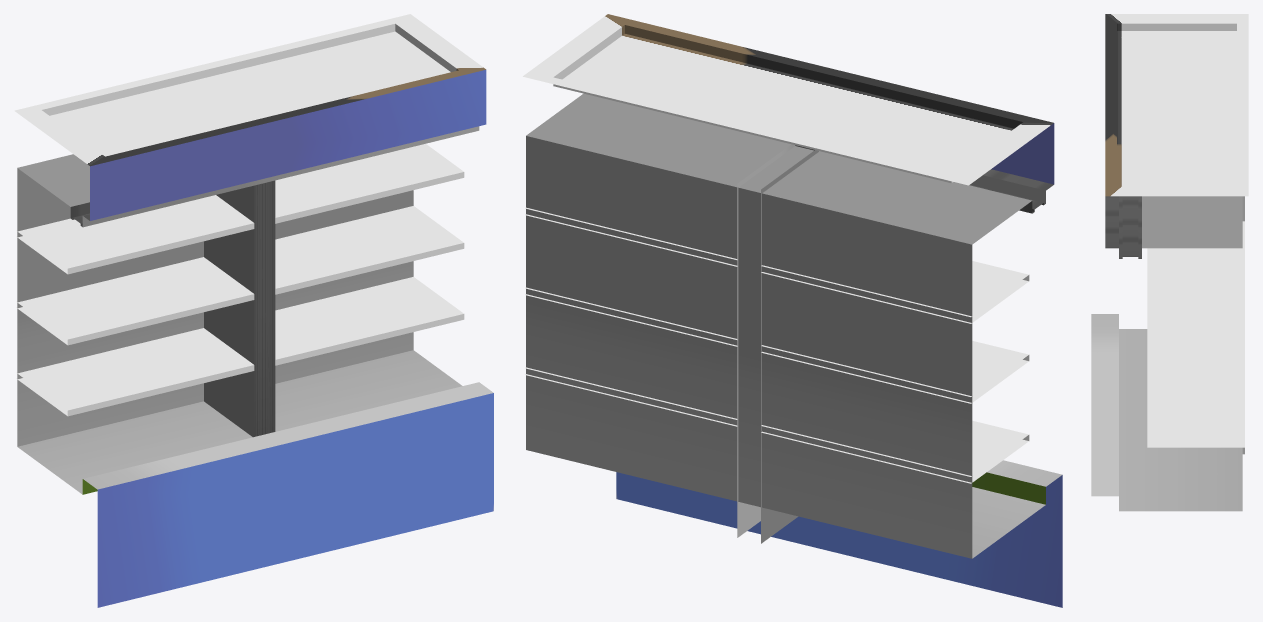
Rendered from frigo_mezzo.fbx.
3 views of the same model, side by side, from view 1: azimuth 30°, elevation 25°; view 2: azimuth 150°, elevation 25°; view 3: azimuth 270°, elevation 25° (orthographic). The views are drawn at different scales.
Parts seen in each view (by area): view 1: Frigo_centro; view 2: Frigo_centro; view 3: Frigo_centro.
Boxes of the visible parts, <box> form: Frigo_centro: <box>14,14,493,607</box>; Frigo_centro: <box>523,14,1062,607</box>; Frigo_centro: <box>1091,14,1248,511</box>.
Bounding box in the file's own units: 200 × 210 × 72.89.
